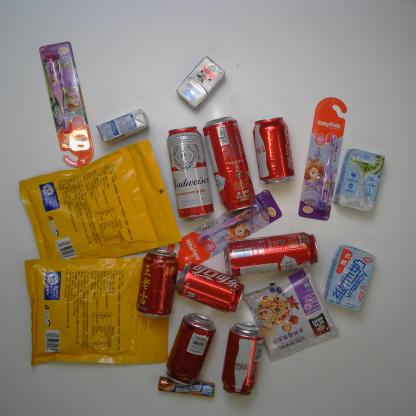Alcohol: (202, 116, 257, 211), (166, 126, 214, 222), (221, 233, 319, 277)
Candy: (156, 376, 218, 396)
Dried Fruit: (19, 141, 184, 259), (25, 255, 171, 370)
Drink: (176, 262, 246, 313), (167, 313, 215, 386), (220, 323, 266, 397), (136, 250, 181, 320), (253, 116, 296, 186)
Instant Drink: (241, 265, 340, 362)
Milk: (324, 246, 376, 314), (334, 148, 386, 214), (174, 55, 227, 110), (96, 108, 147, 144)
Personal Hygiene: (165, 190, 283, 266), (37, 40, 94, 169), (297, 96, 349, 221)
